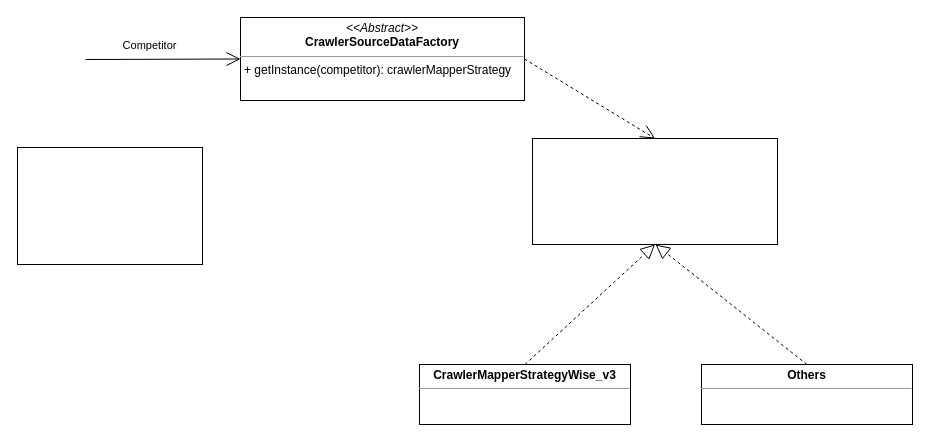
Image size: 930x442. Some labels were removed from this diagram. Here are the shapes that lost their labels. From the top down, the centre of each, then its label:
At pixel 109 205: "Context".
At pixel 655 191: "<<Interface>> ICrawlerMapperStrategy + Map(string json): List<CrawlerEntity>".
